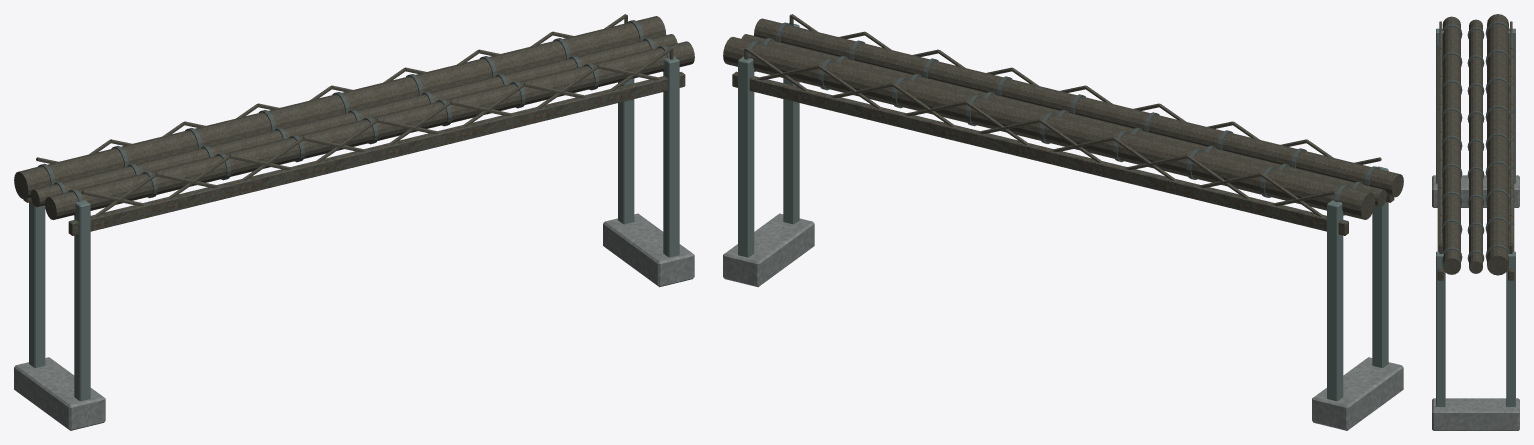
The model's file is pipe-bridge.glb.
The picture shows the model from 3 angles, left to right: view 1: azimuth 30°, elevation 25°; view 2: azimuth 150°, elevation 25°; view 3: azimuth 270°, elevation 25°; orthographic projection. The views are drawn at different scales.
Visible parts, largest first — view 1: pipe-bridge / Weathered industrial steel, pipe-bridge / Painted industrial green, pipe-bridge / Aged concrete, pipe-bridge / Ironwork; view 2: pipe-bridge / Weathered industrial steel, pipe-bridge / Painted industrial green, pipe-bridge / Aged concrete, pipe-bridge / Ironwork; view 3: pipe-bridge / Weathered industrial steel, pipe-bridge / Painted industrial green, pipe-bridge / Aged concrete, pipe-bridge / Ironwork.
Part boxes in pixels (x1,y1,x2,y2): pipe-bridge / Weathered industrial steel: [14, 14, 694, 235]; pipe-bridge / Painted industrial green: [29, 24, 679, 401]; pipe-bridge / Aged concrete: [14, 213, 694, 430]; pipe-bridge / Ironwork: [38, 20, 669, 215]; pipe-bridge / Weathered industrial steel: [723, 14, 1403, 235]; pipe-bridge / Painted industrial green: [738, 23, 1388, 401]; pipe-bridge / Aged concrete: [723, 213, 1403, 430]; pipe-bridge / Ironwork: [748, 22, 1380, 215]; pipe-bridge / Weathered industrial steel: [1437, 14, 1514, 280]; pipe-bridge / Painted industrial green: [1436, 28, 1515, 406]; pipe-bridge / Aged concrete: [1432, 175, 1519, 430]; pipe-bridge / Ironwork: [1442, 21, 1509, 261].
Bounding box in the file's own units: 26 × 9.06 × 4.
Materials: 4 (2 with a texture image).
